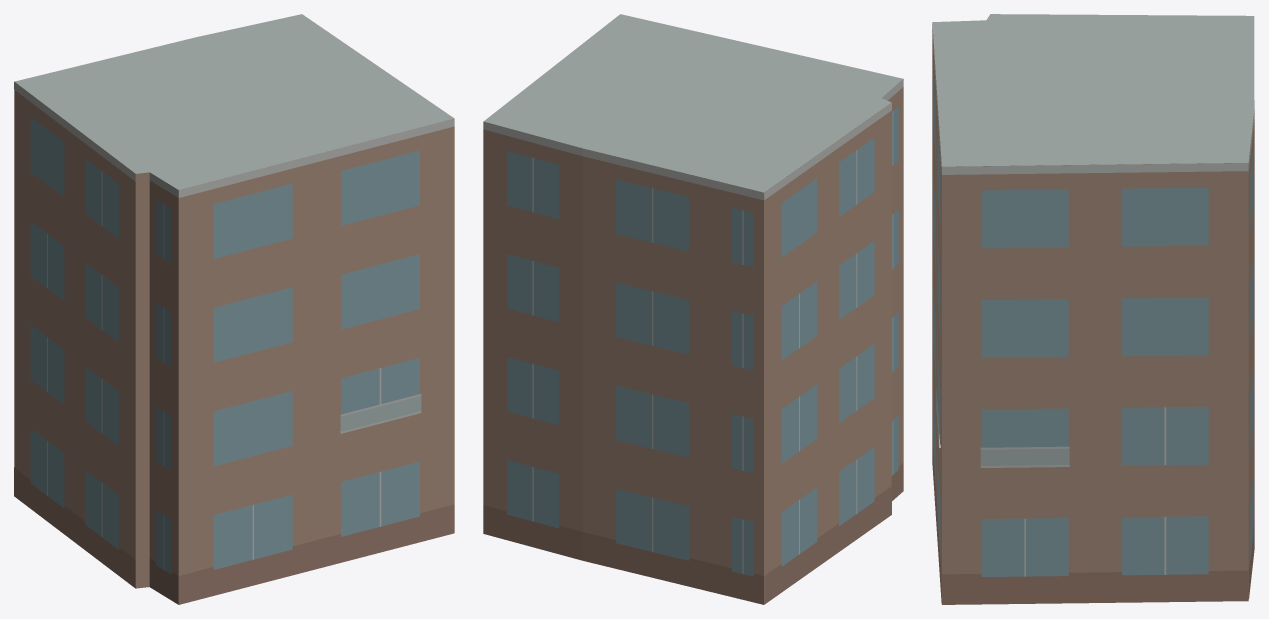
File: survey-upis-32471749.glb
The picture shows the model from 3 angles, left to right: view 1: azimuth 30°, elevation 25°; view 2: azimuth 150°, elevation 25°; view 3: azimuth 270°, elevation 25°; orthographic projection. The views are drawn at different scales.
Parts seen in each view (by area): view 1: survey-upis-32471749.tmp; view 2: survey-upis-32471749.tmp; view 3: survey-upis-32471749.tmp.
Boxes of the visible parts, x1,y1,x2,y2 form: survey-upis-32471749.tmp: [14, 14, 454, 604]; survey-upis-32471749.tmp: [483, 14, 903, 604]; survey-upis-32471749.tmp: [932, 14, 1254, 604].
Bounding box in the file's own units: 9.57 × 12.8 × 8.54.
